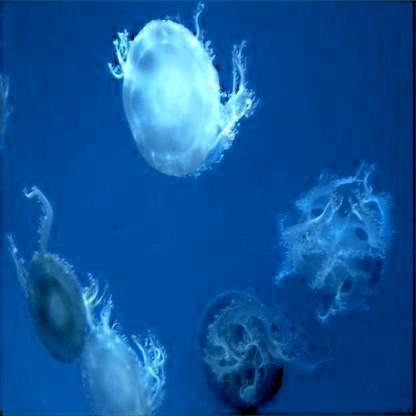Fish: (108, 8, 258, 177), (273, 163, 396, 320), (198, 289, 332, 410), (11, 185, 95, 363), (80, 284, 166, 414)
